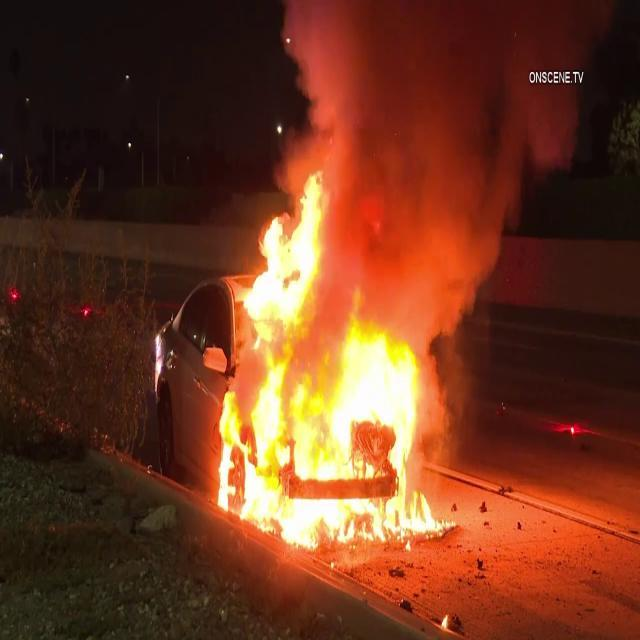Fire: (213, 163, 449, 552)
Smoke: (271, 0, 591, 303)
